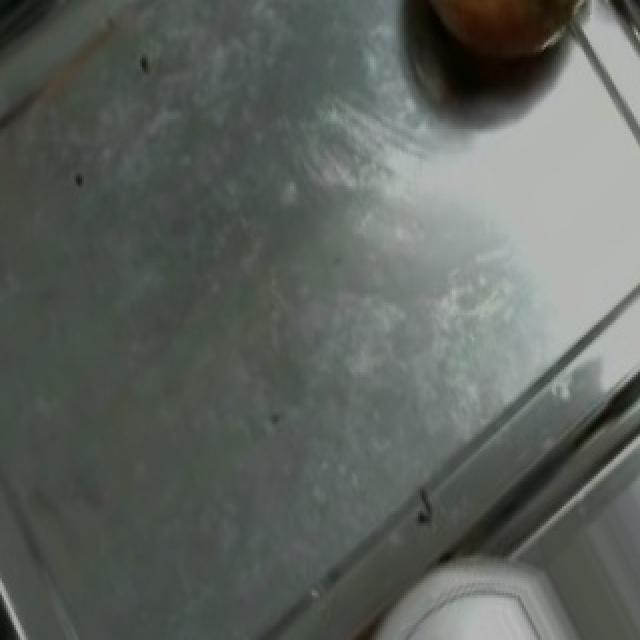fruit: (406, 0, 612, 82), (380, 568, 580, 640)
